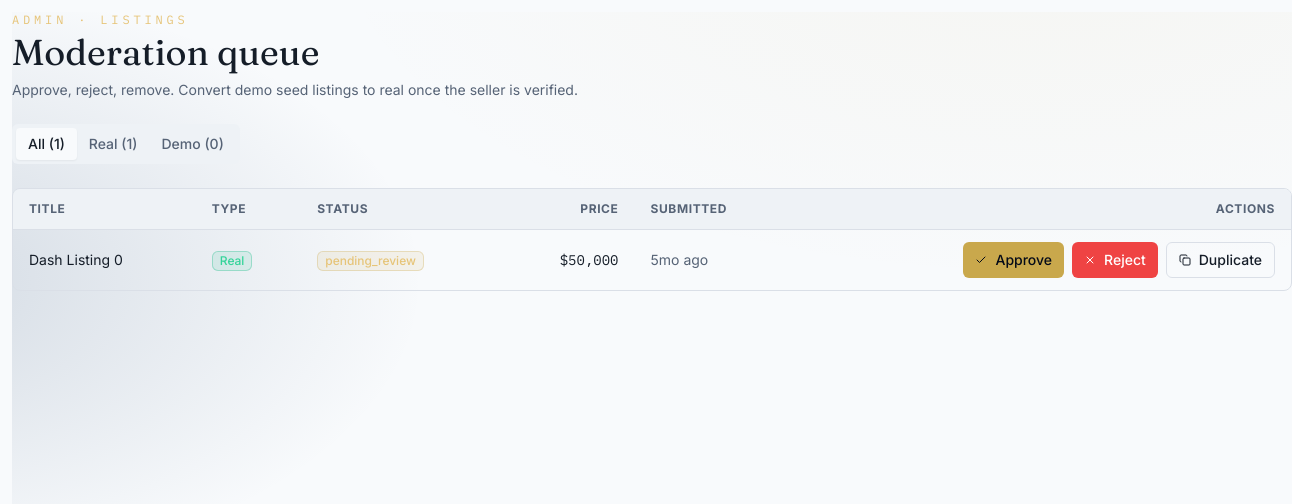
AdminListings (moderation queue) › surfaces an alert when a moderation update fails
expect the text "Dash Listing 0" is shown: met, box left=13, top=230, right=196, bottom=290
Click the button "Approve" at (1014, 260), box left=964, top=242, right=1064, bottom=278
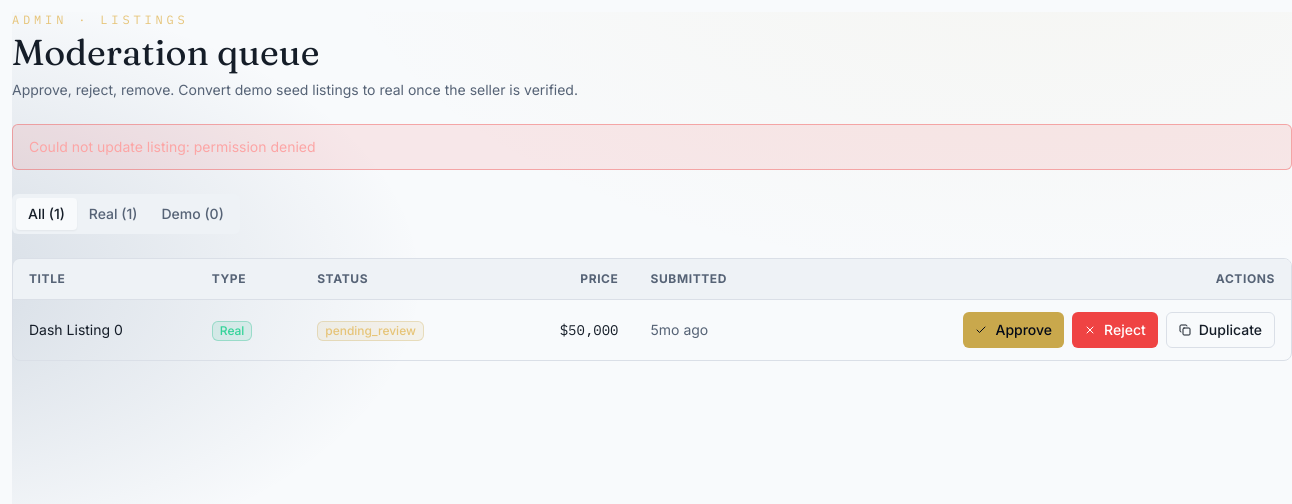
expect the message shows "permission denied": met, box left=29, top=138, right=316, bottom=155
